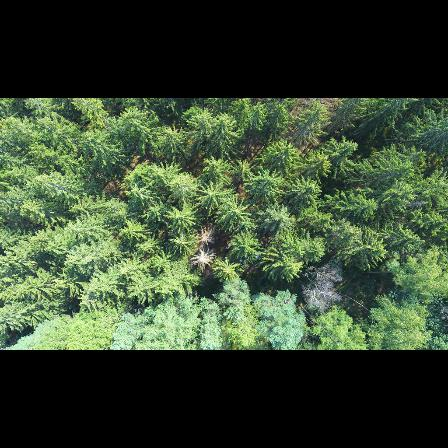Dead: (301, 259, 343, 314), (187, 248, 217, 270), (195, 225, 217, 248)
